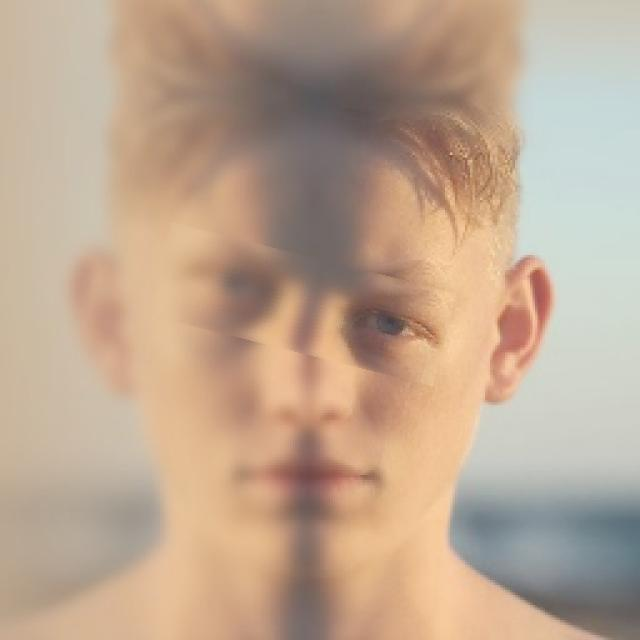no-glasses: (151, 239, 452, 369)
